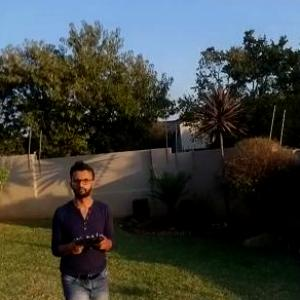follow: (49, 157, 118, 299)
